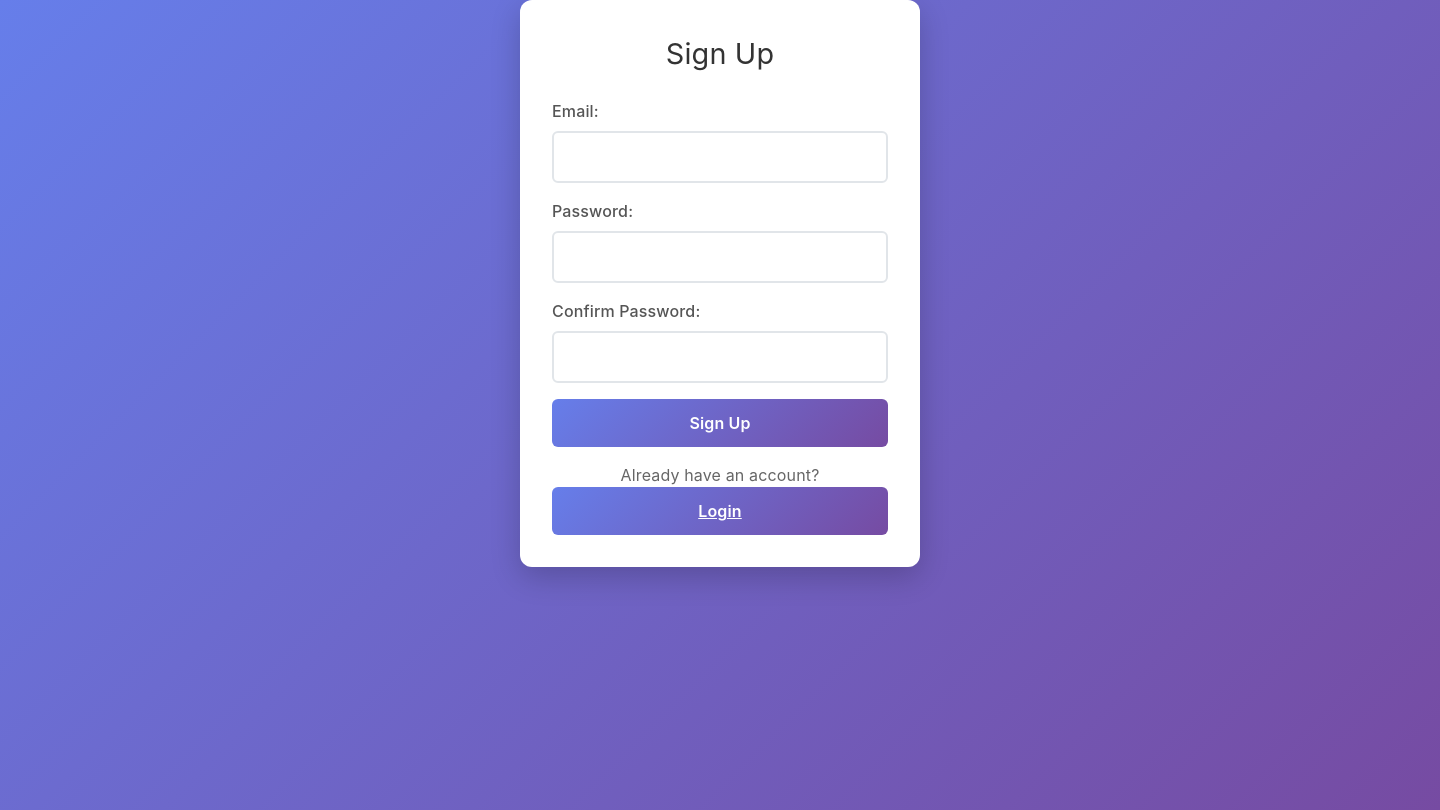
Test: Authentication Components › Signup Component › validates password confirmation
Type "test@example.com" into the field labelled "Email:" at (720, 157), box [552,131,888,183]
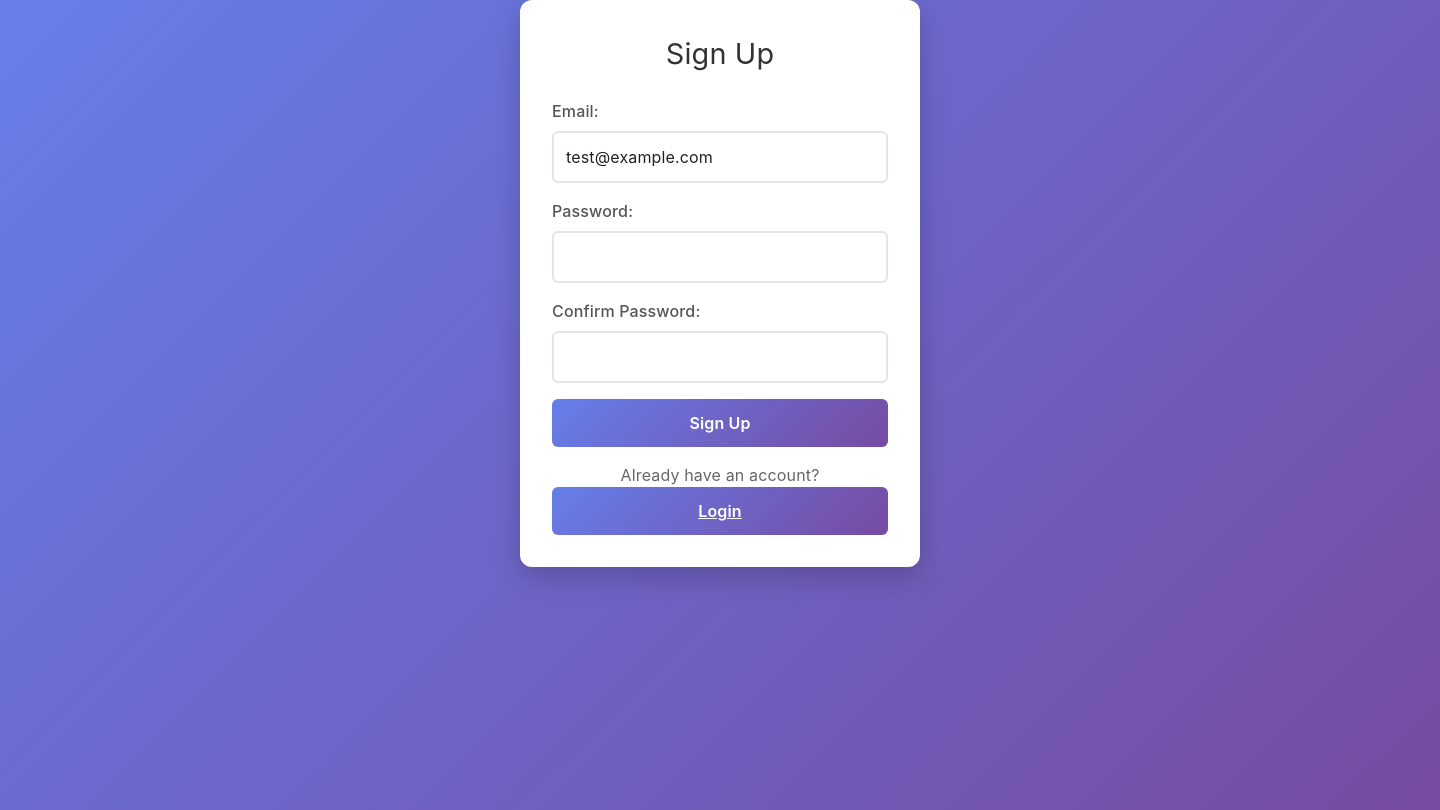
Type "password123" into the password field labelled "Password:" at (720, 257), box [552,231,888,283]
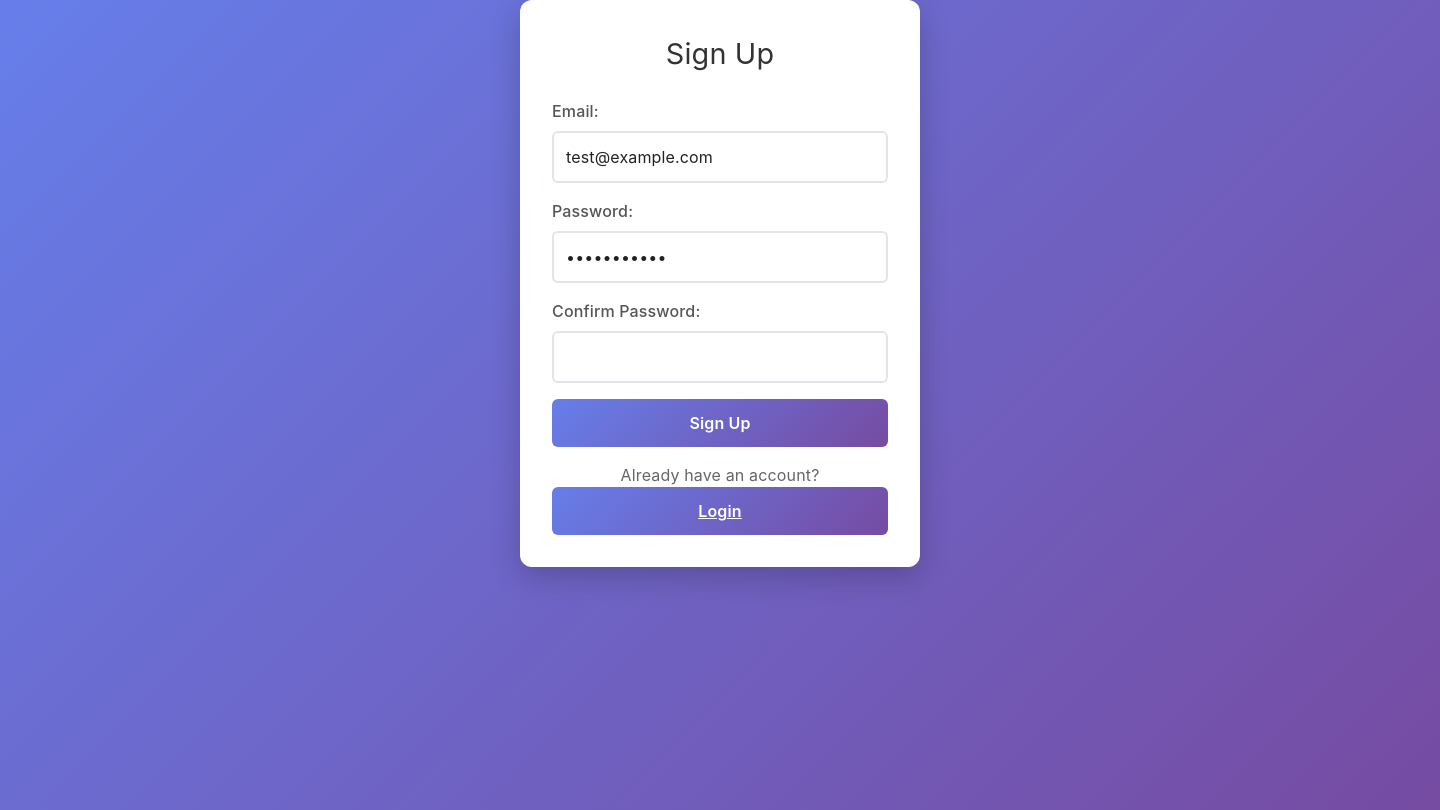
Type "differentpassword" into the password field labelled "Confirm Password:" at (720, 357), box [552,331,888,383]
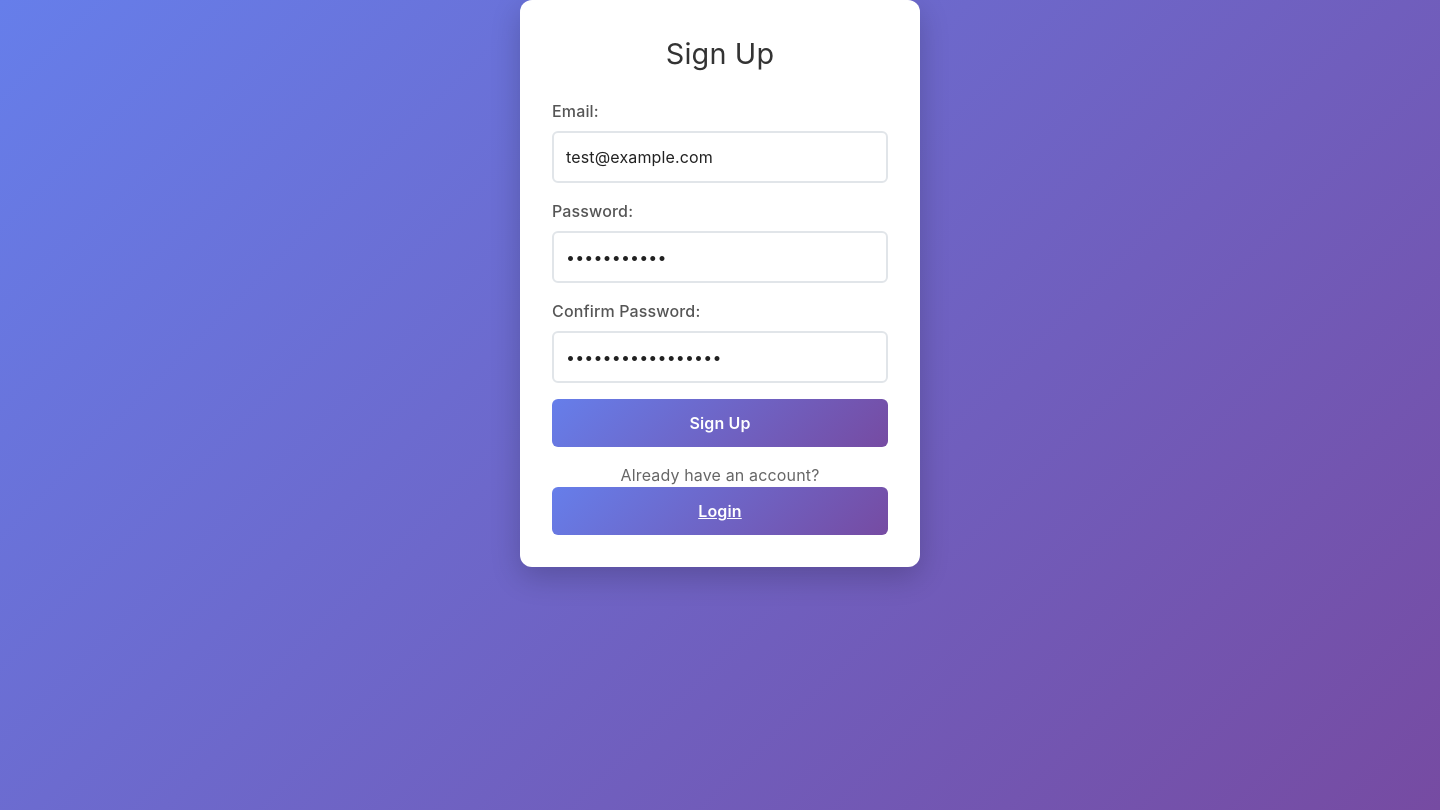
Click the button "Sign Up" at (720, 423), box [552,399,888,447]
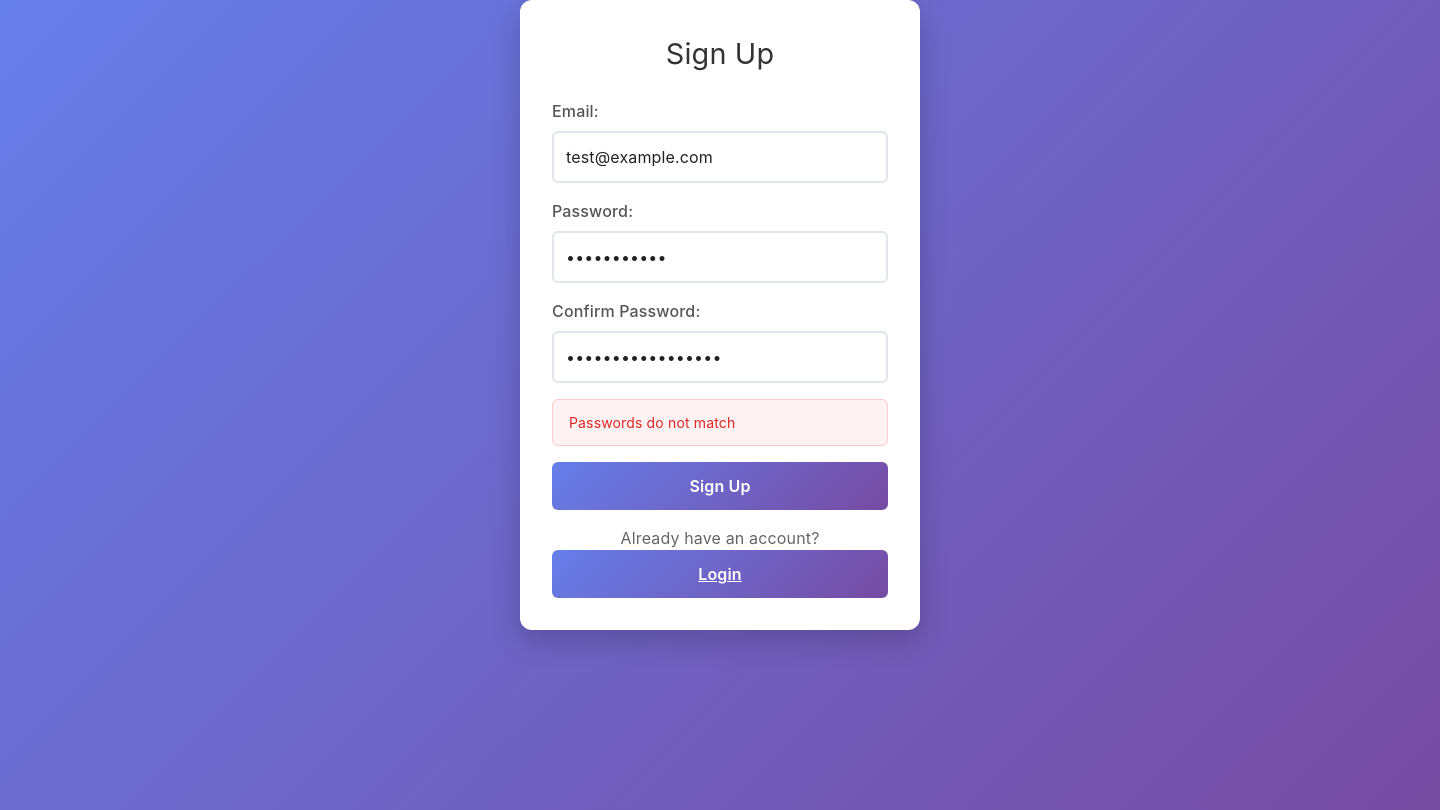
Expected: the text "Passwords do not match" is shown, [552,399,888,446]
